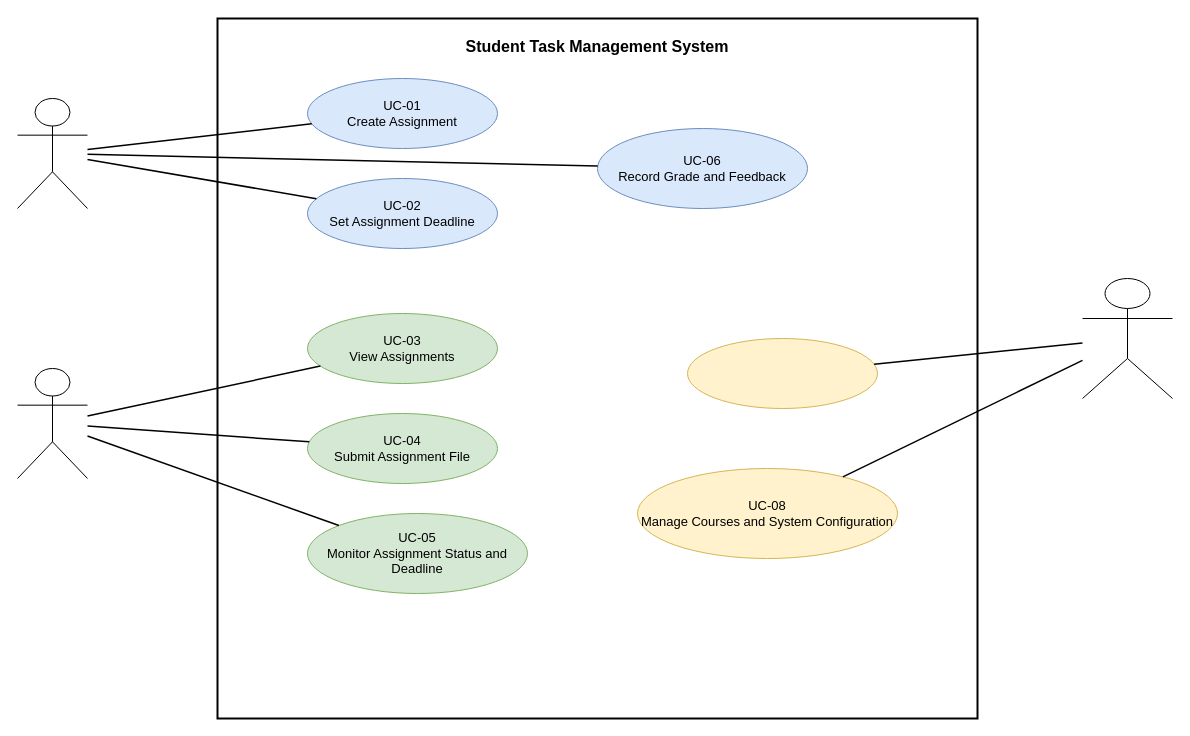
Image size: 1190x736. Some labels were removed from this diagram. Each missing label, with the centre of its shape:
"Administrator" belongs at (x=1127, y=338).
"Lecturer" belongs at (x=52, y=153).
"Student" belongs at (x=52, y=423).
"UC-07 Manage Users" belongs at (x=782, y=373).
